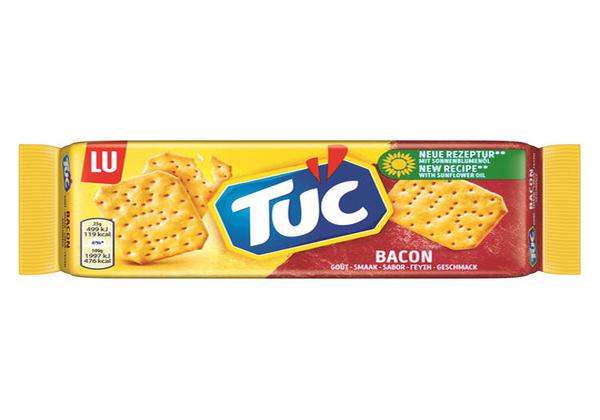crackers tuc: (56, 143, 541, 277)
